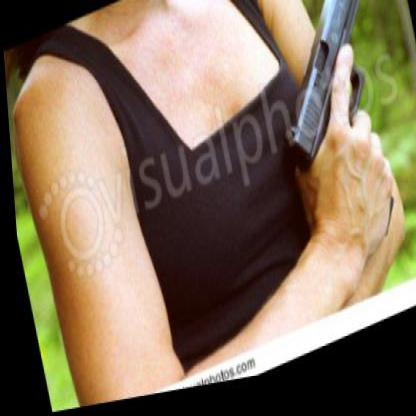pistol: (252, 0, 392, 192)
